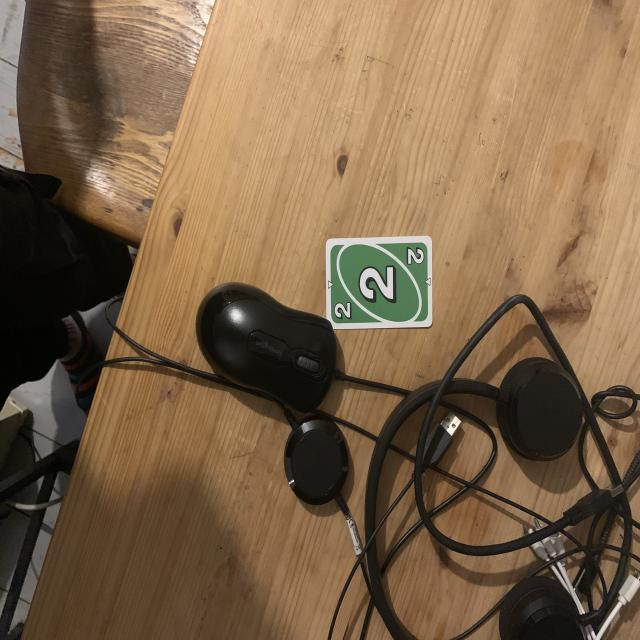lgreen-2: (401, 240, 428, 269)
